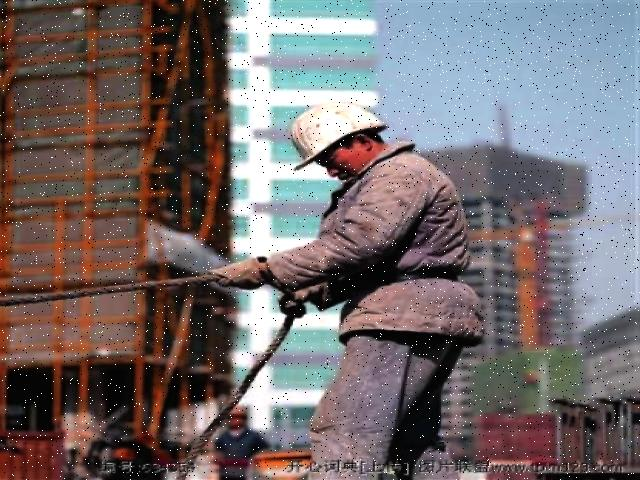Helmet: (279, 97, 399, 178)
